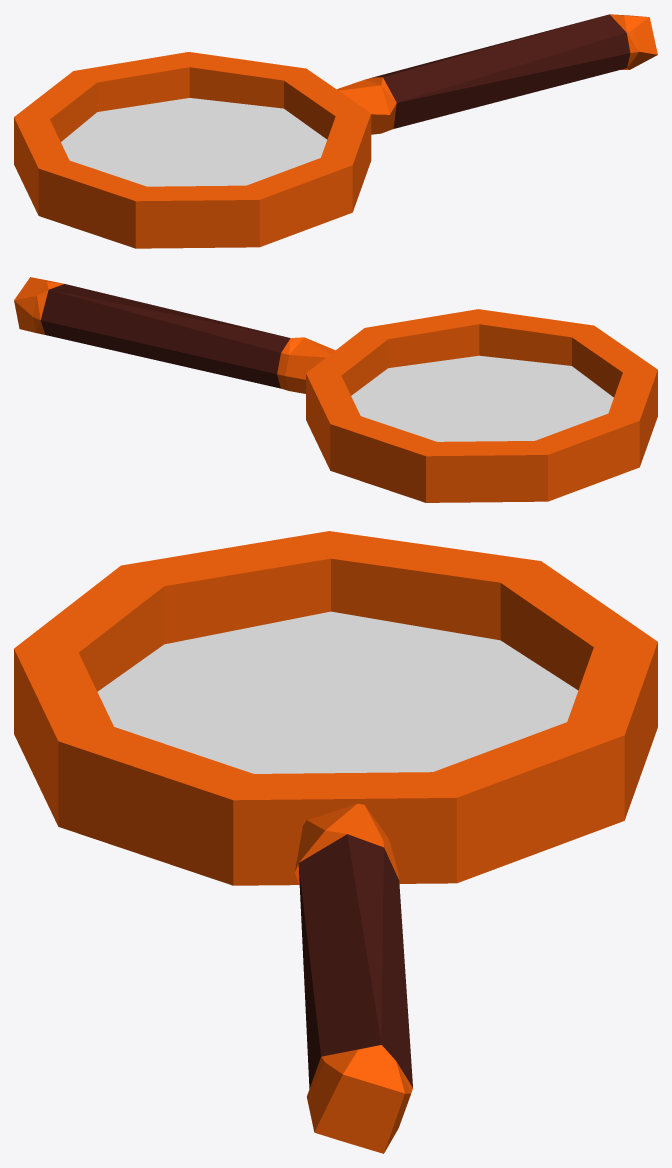
The model's file is Magnifaying_Glass_1.fbx.
3 views of the same model, one above another, from view 1: azimuth 30°, elevation 25°; view 2: azimuth 150°, elevation 25°; view 3: azimuth 270°, elevation 25° (orthographic). The views are drawn at different scales.
Parts seen in each view (by area): view 1: Magnifying Glass 1; view 2: Magnifying Glass 1; view 3: Magnifying Glass 1.
Boxes of the visible parts, box(x1,y1,x2,y2) form: Magnifying Glass 1: box(14, 14, 657, 248); Magnifying Glass 1: box(14, 277, 657, 502); Magnifying Glass 1: box(14, 531, 657, 1153).
Bounding box in the file's own units: 54.82 × 4.47 × 27.57.
